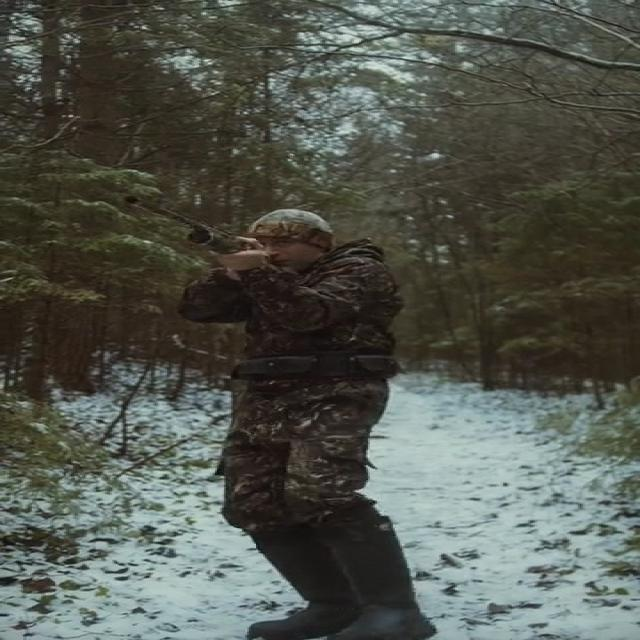Gun_Holder: (92, 191, 289, 279)
Person: (148, 209, 430, 640)
